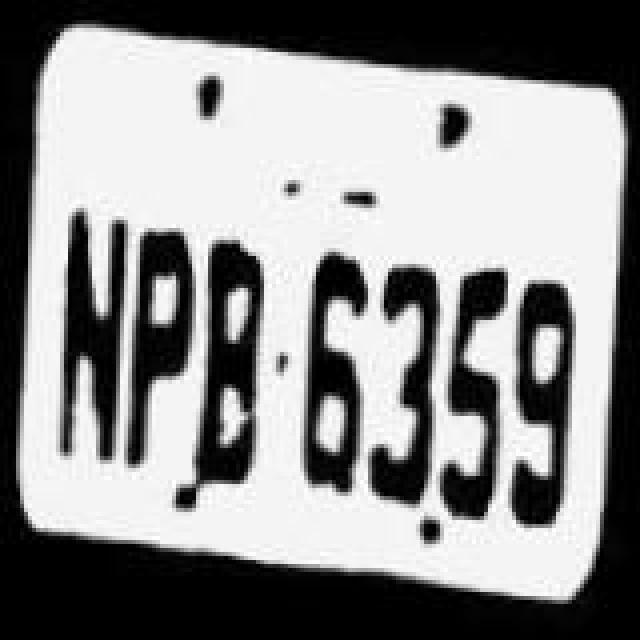3: (360, 250, 444, 502)
5: (432, 246, 516, 522)
6: (286, 244, 374, 492)
9: (502, 266, 582, 530)
B: (188, 230, 280, 490)
N: (52, 196, 132, 464)
P: (122, 214, 206, 474)
